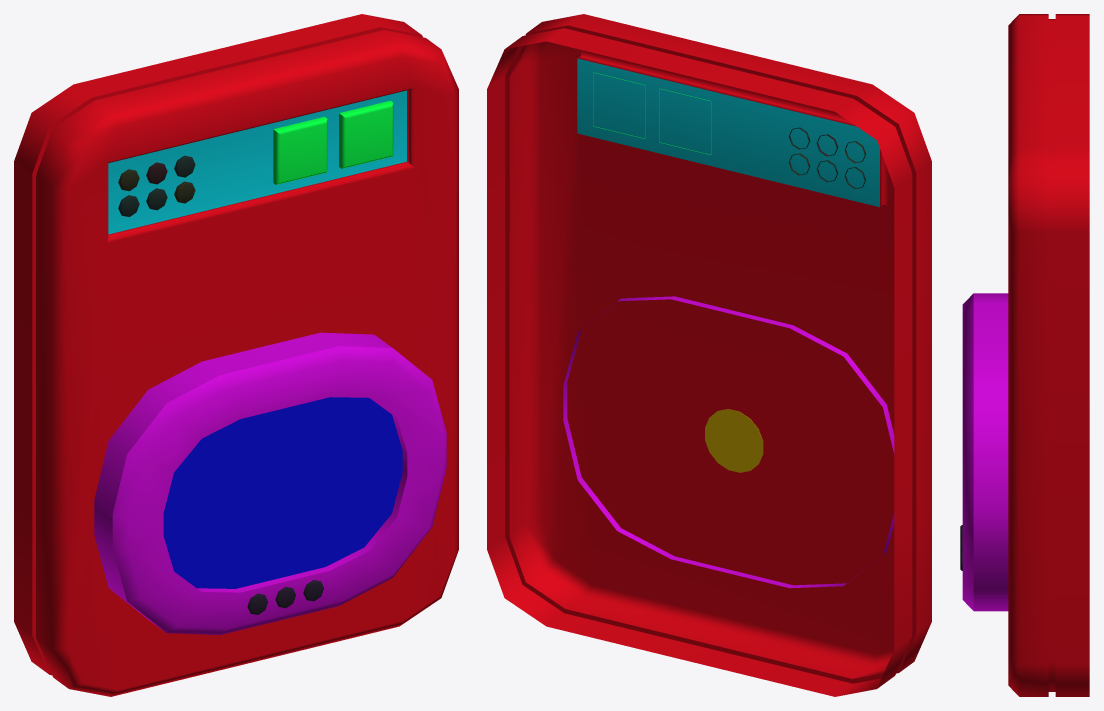
Rendered from staticMesh_prop_LaserCaptor.fbx.
3 renders of one model, left to right at view 1: azimuth 30°, elevation 25°; view 2: azimuth 150°, elevation 25°; view 3: azimuth 270°, elevation 25°, orthographic. The views are drawn at different scales.
Parts seen in each view (by area): view 1: pCube6; view 2: pCube6; view 3: pCube6.
Part boxes in pixels (box(x1,y1,x2,y2)): pCube6: box(14, 14, 458, 696); pCube6: box(487, 14, 931, 696); pCube6: box(960, 14, 1089, 696).
Bounding box in the file's own units: 49.18 × 67.52 × 14.44.
